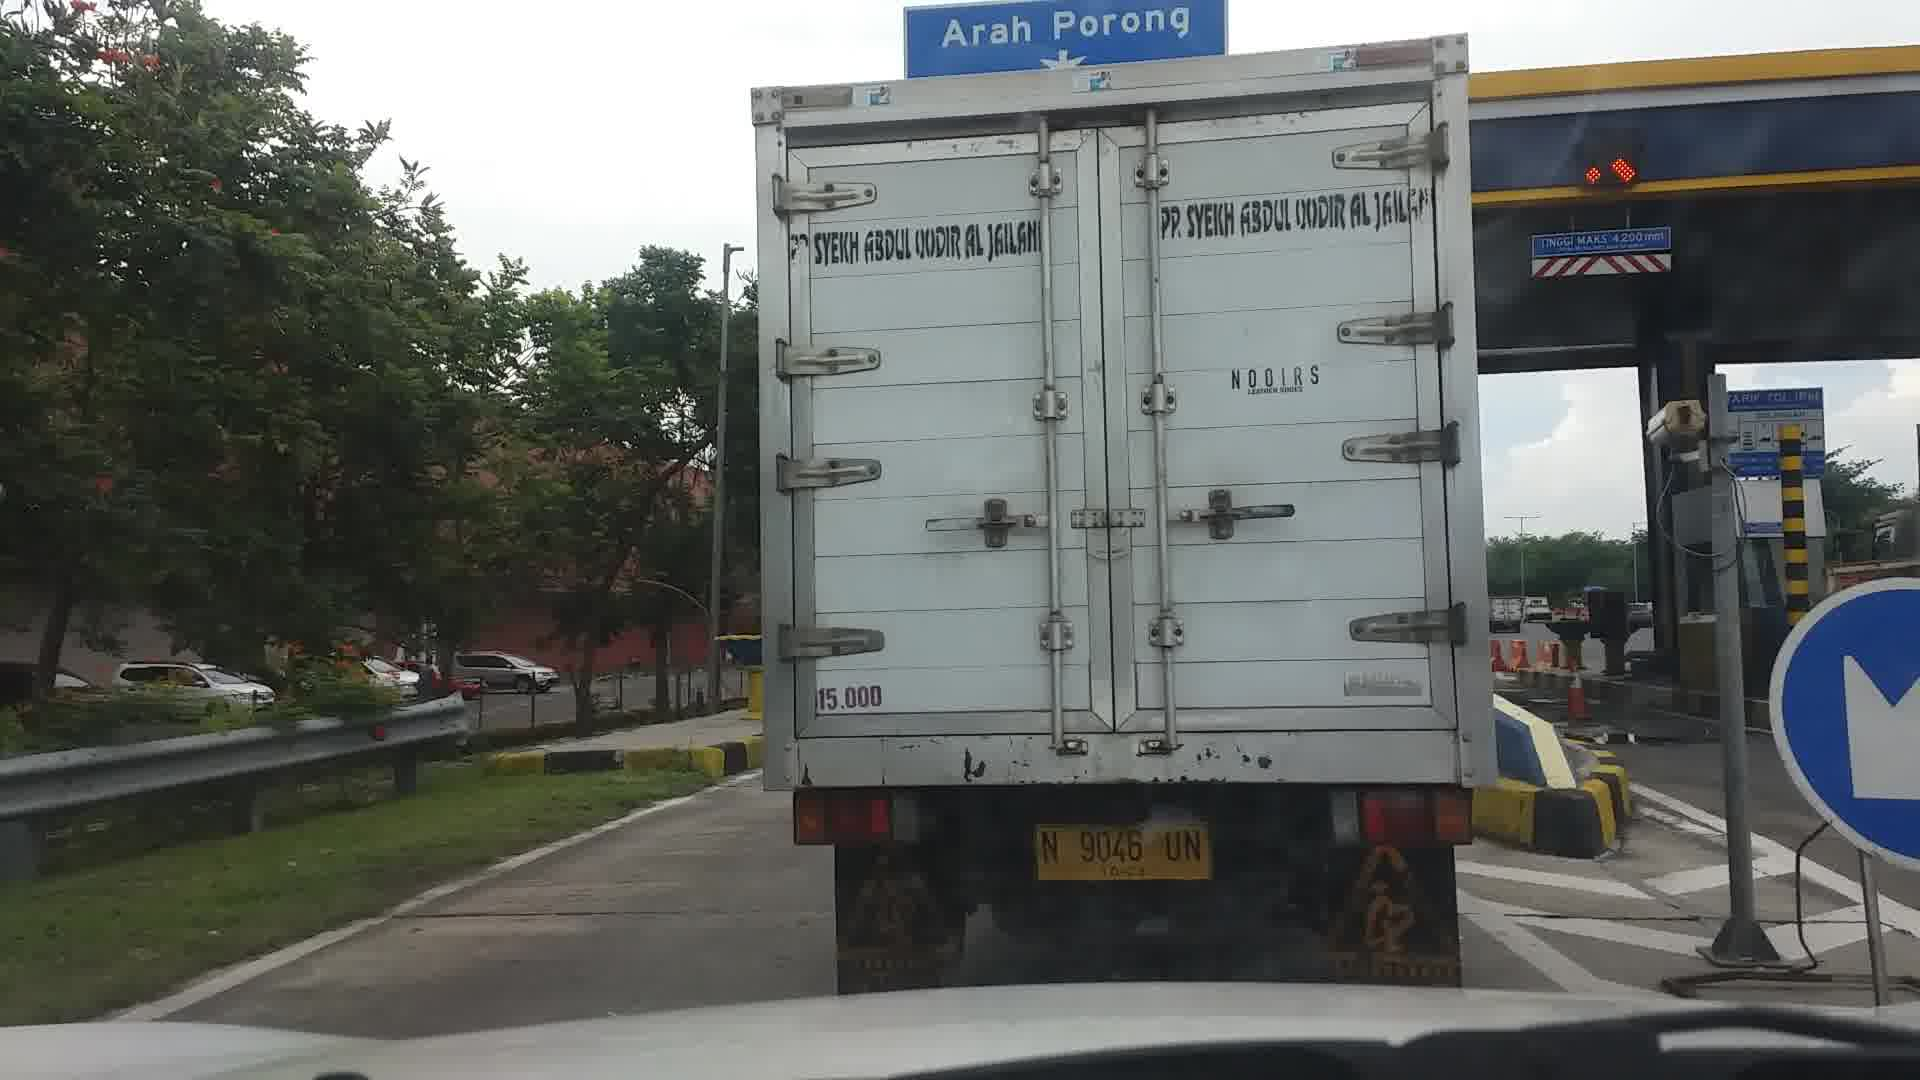plate_positive: (1035, 824, 1209, 880)
